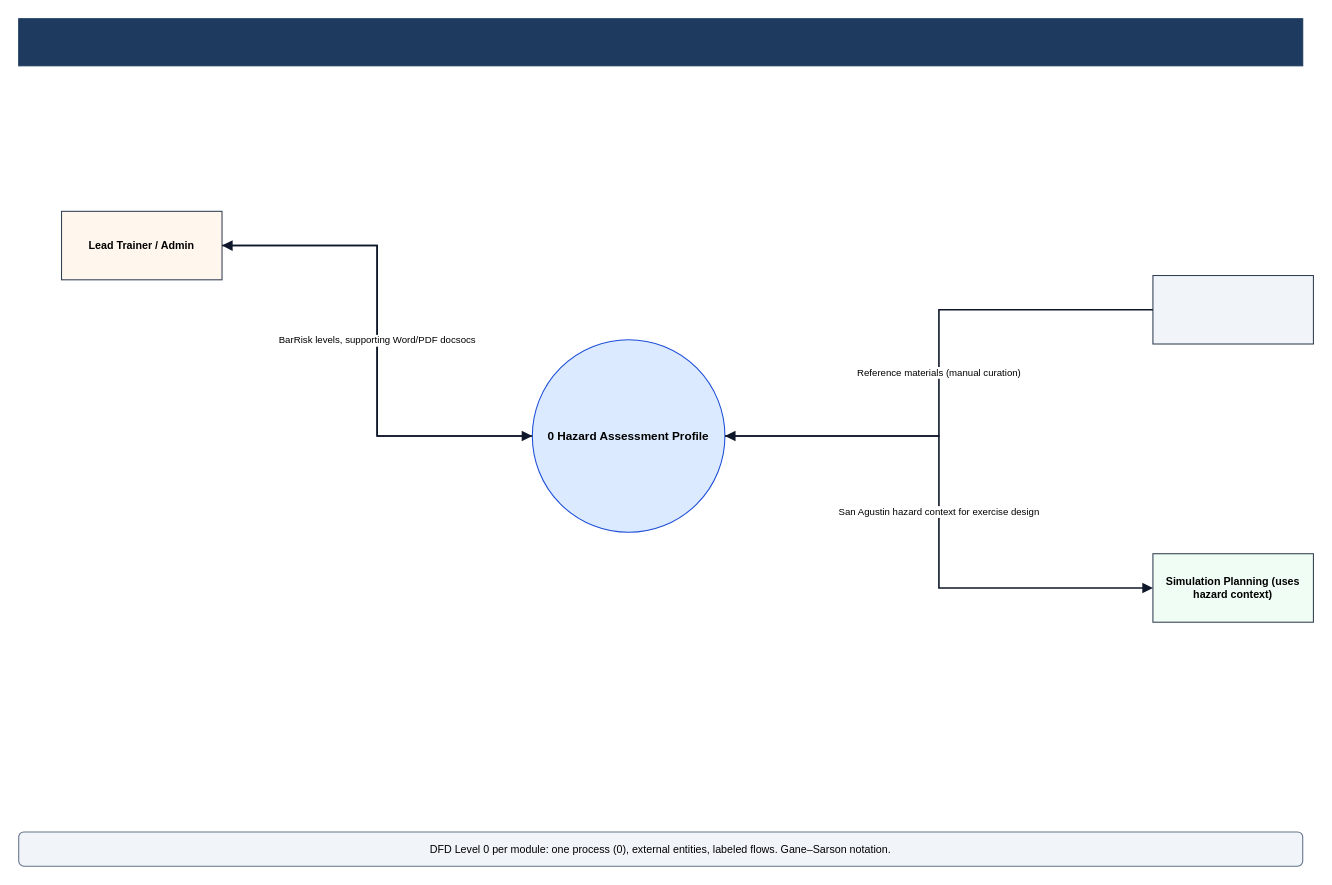
The diagram is 1332 pixels wide and 885 high, and some of its shapes have lost their labels. The centre of each missing label's shape, as x and y in pixels:
M8 — Hazard Assessment Profile — DFD Level 0: (x=660, y=42)
Public Reference Sources (QCDMP, PAGASA, PHIVOLCS, BDRRM studies): (x=1232, y=309)
